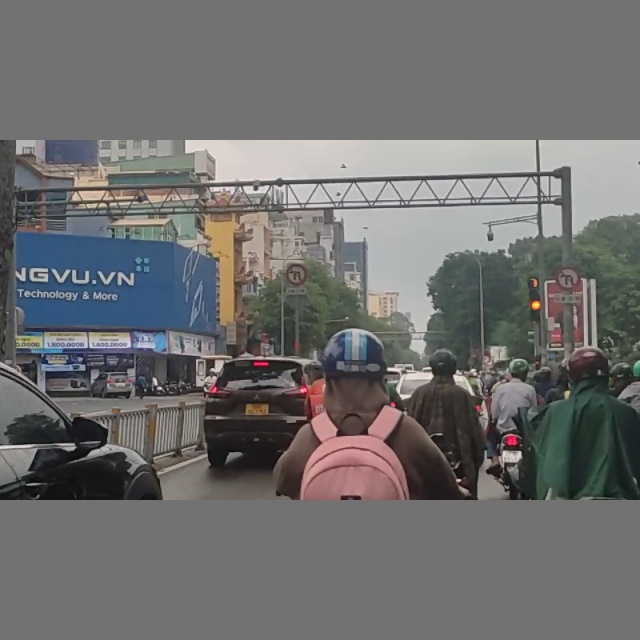P.124c: (557, 268, 579, 290), (285, 264, 305, 284)
